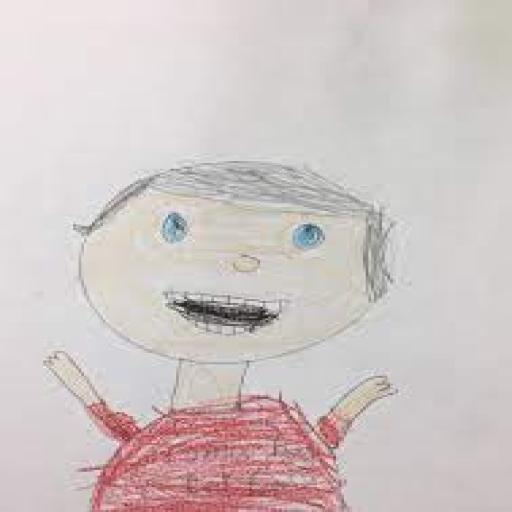person: (38, 158, 438, 510)
